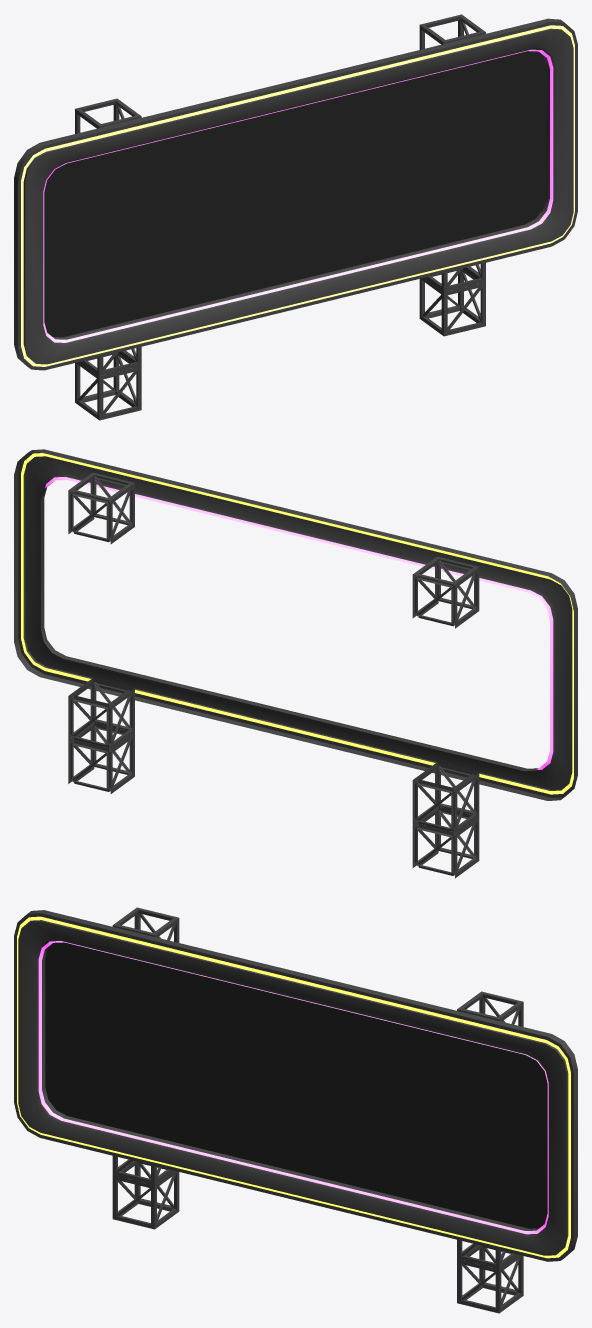
File: mesh_Galaxy_Leadboard.fbx
3 renders of one model, top to bottom at view 1: azimuth 30°, elevation 25°; view 2: azimuth 150°, elevation 25°; view 3: azimuth 330°, elevation 25°, orthographic.
Parts seen in each view (by area): view 1: mesh_Galaxy_Leadboard; view 2: mesh_Galaxy_Leadboard; view 3: mesh_Galaxy_Leadboard.
Boxes of the visible parts, x1=… form: mesh_Galaxy_Leadboard: x1=14, y1=14, x2=577, y2=420; mesh_Galaxy_Leadboard: x1=14, y1=449, x2=577, y2=878; mesh_Galaxy_Leadboard: x1=14, y1=907, x2=577, y2=1313.
Size of the model in its own units: 1024 by 519 by 109.
